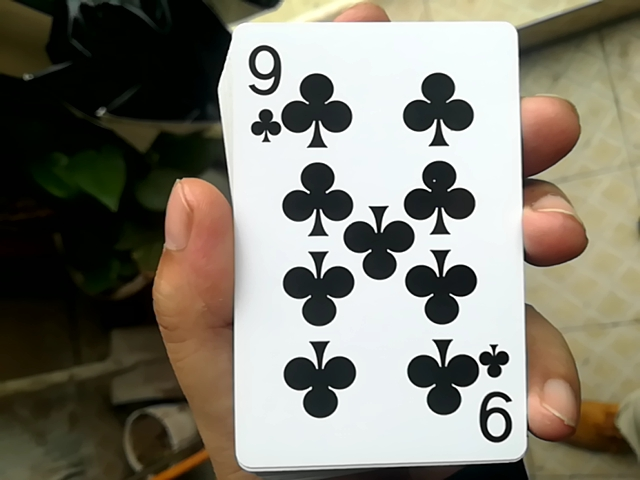mh 9: (209, 8, 521, 470)
